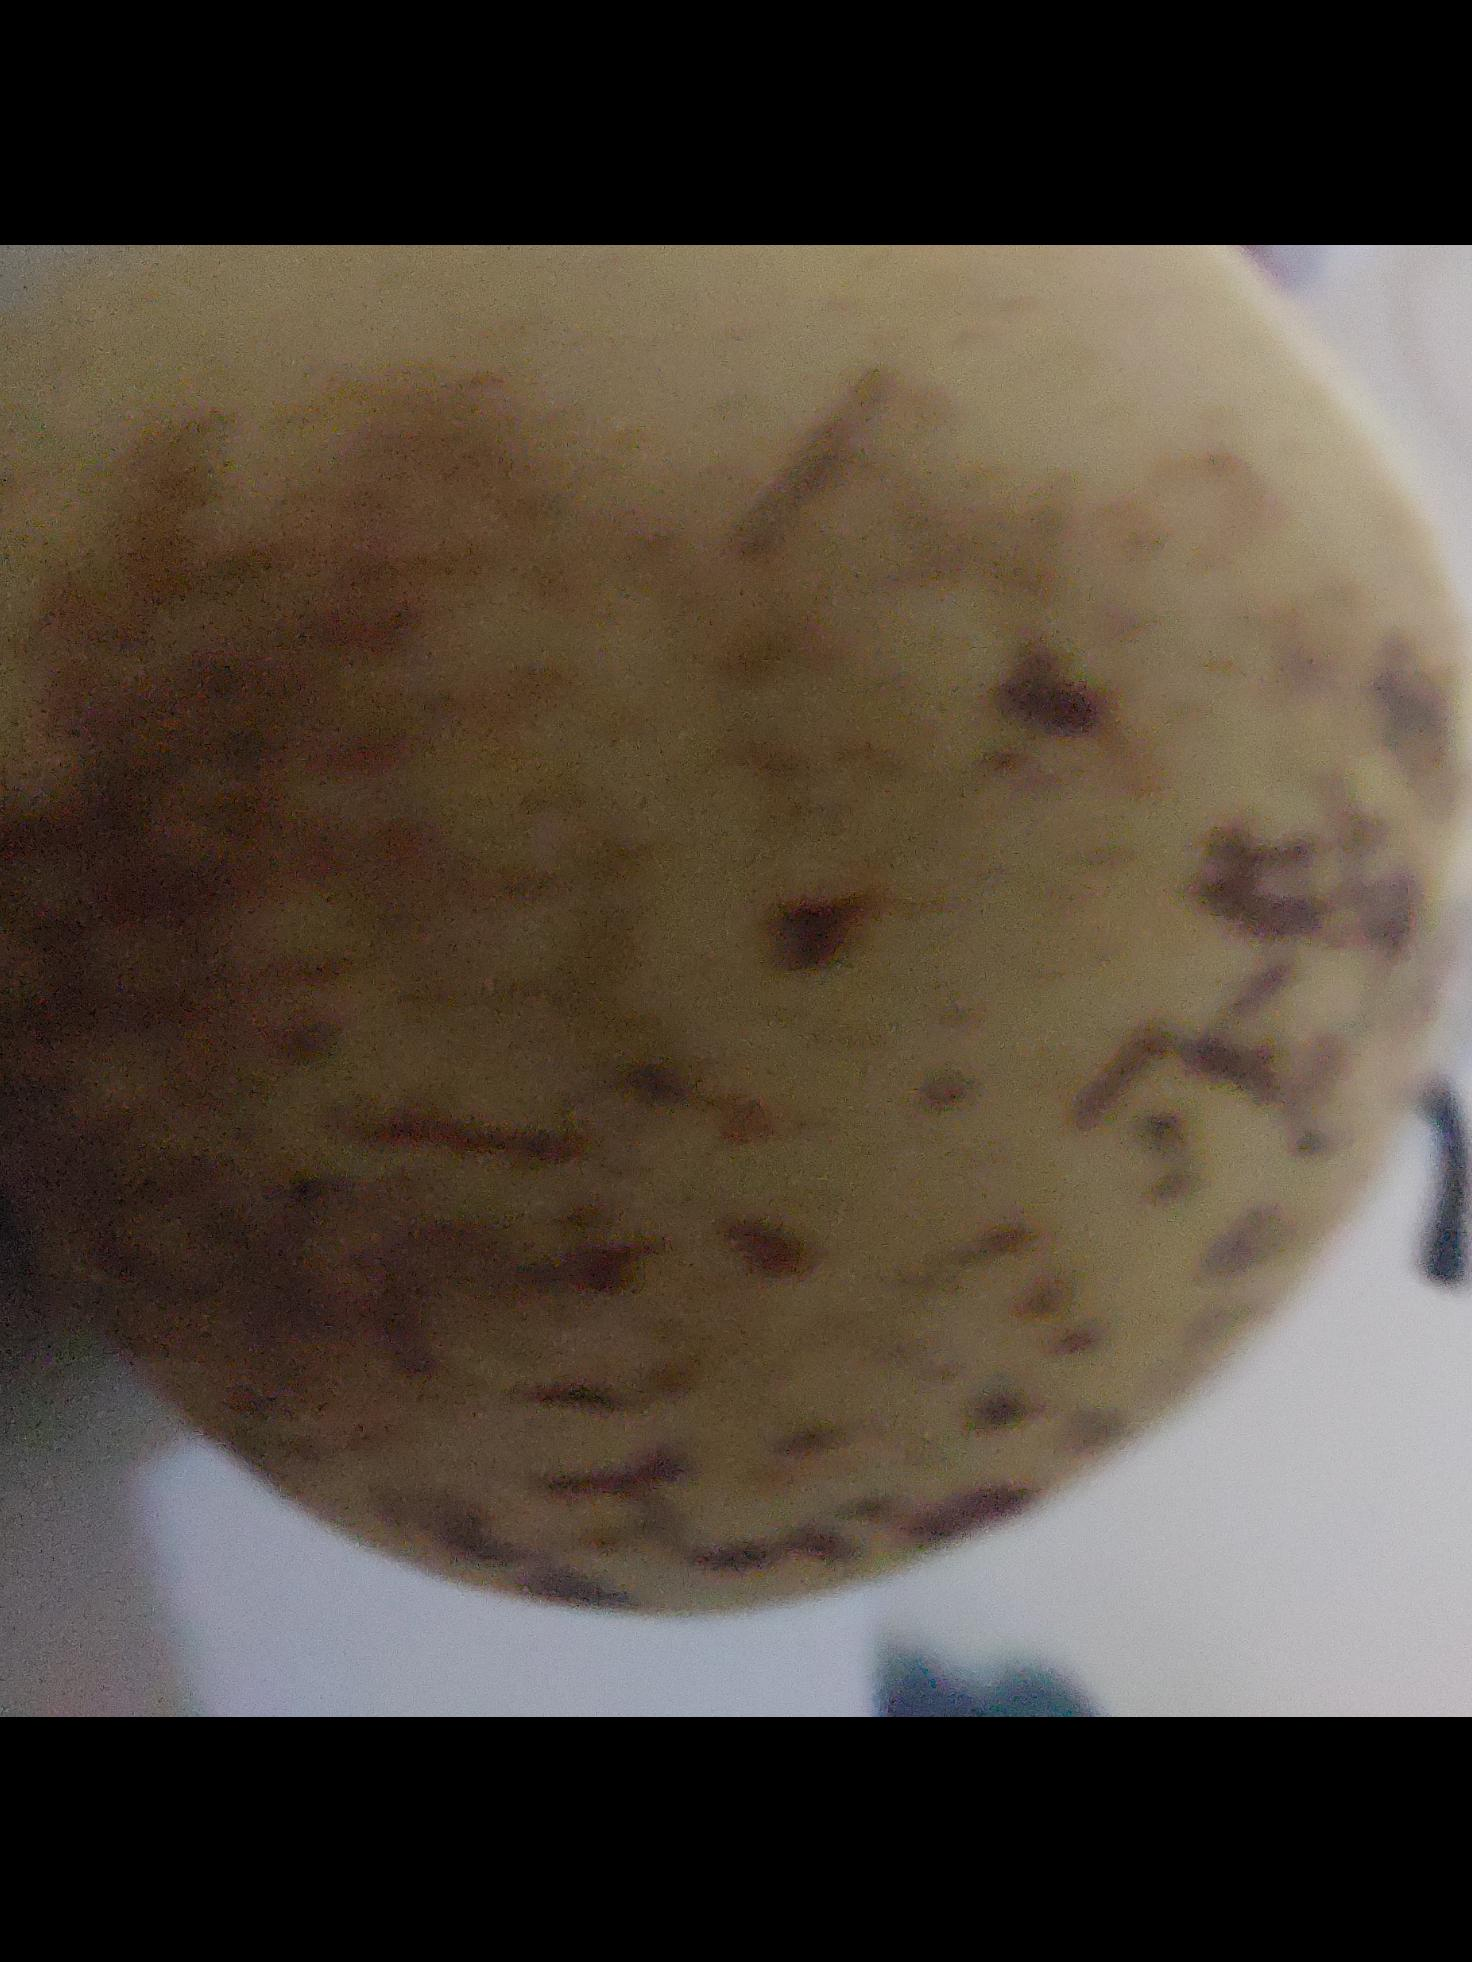Bad Pear: (0, 244, 1472, 1636)
